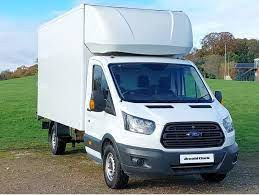van: (36, 3, 240, 190)
